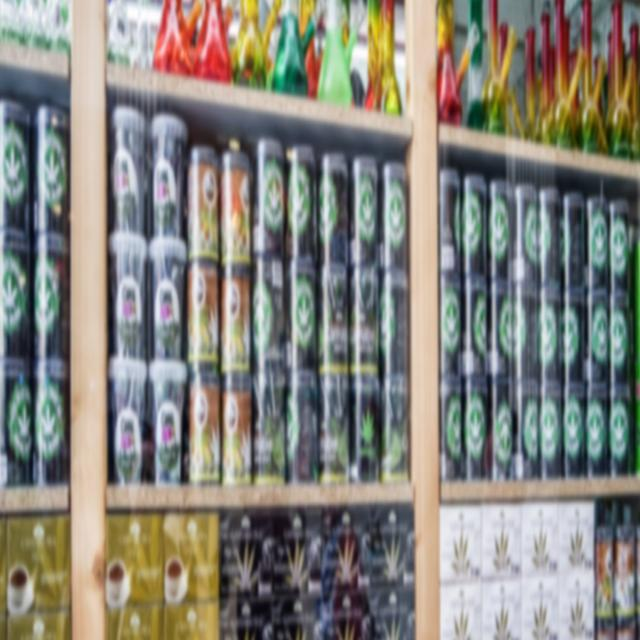Vape-images: (439, 505, 639, 635), (219, 504, 416, 629)
